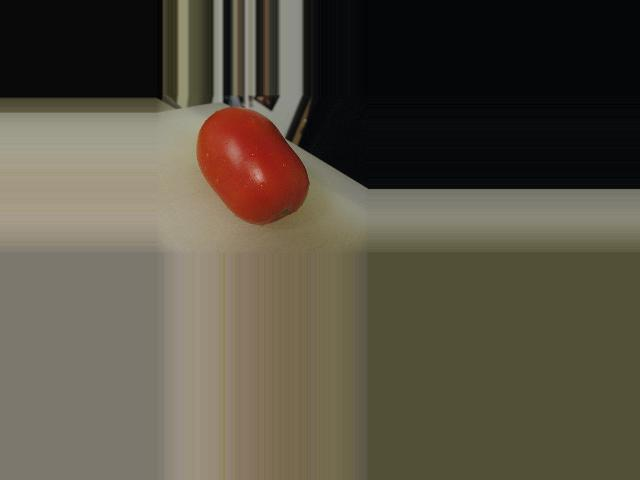tomato: (196, 106, 308, 224)
